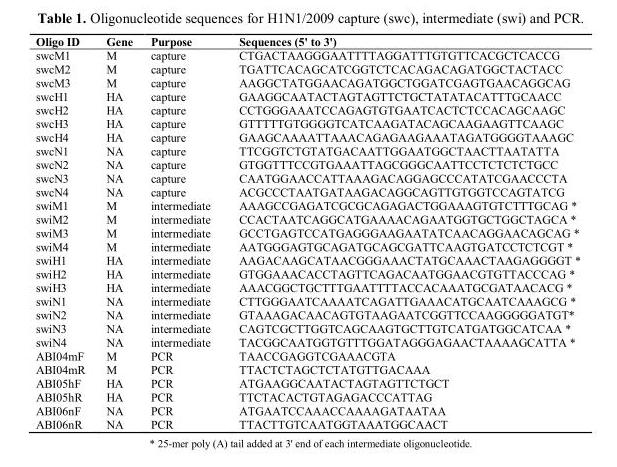table: (34, 34, 580, 430)
table column: (223, 34, 580, 430), (141, 34, 223, 430), (34, 34, 95, 430), (95, 34, 141, 430)
table column header: (34, 34, 580, 47)
table row: (34, 47, 580, 61), (34, 61, 580, 75), (34, 75, 580, 89), (34, 102, 580, 116), (34, 129, 580, 143), (34, 143, 580, 157), (34, 170, 580, 184), (34, 184, 580, 198), (34, 211, 580, 225), (34, 225, 580, 239), (34, 252, 580, 266), (34, 266, 580, 280), (34, 293, 580, 307), (34, 307, 580, 321), (34, 334, 580, 348), (34, 348, 580, 362), (34, 375, 580, 389), (34, 389, 580, 403), (34, 416, 580, 430), (34, 34, 580, 47), (34, 89, 580, 102), (34, 116, 580, 129), (34, 157, 580, 170), (34, 198, 580, 211), (34, 239, 580, 252), (34, 280, 580, 293), (34, 321, 580, 334), (34, 362, 580, 375), (34, 403, 580, 416)
